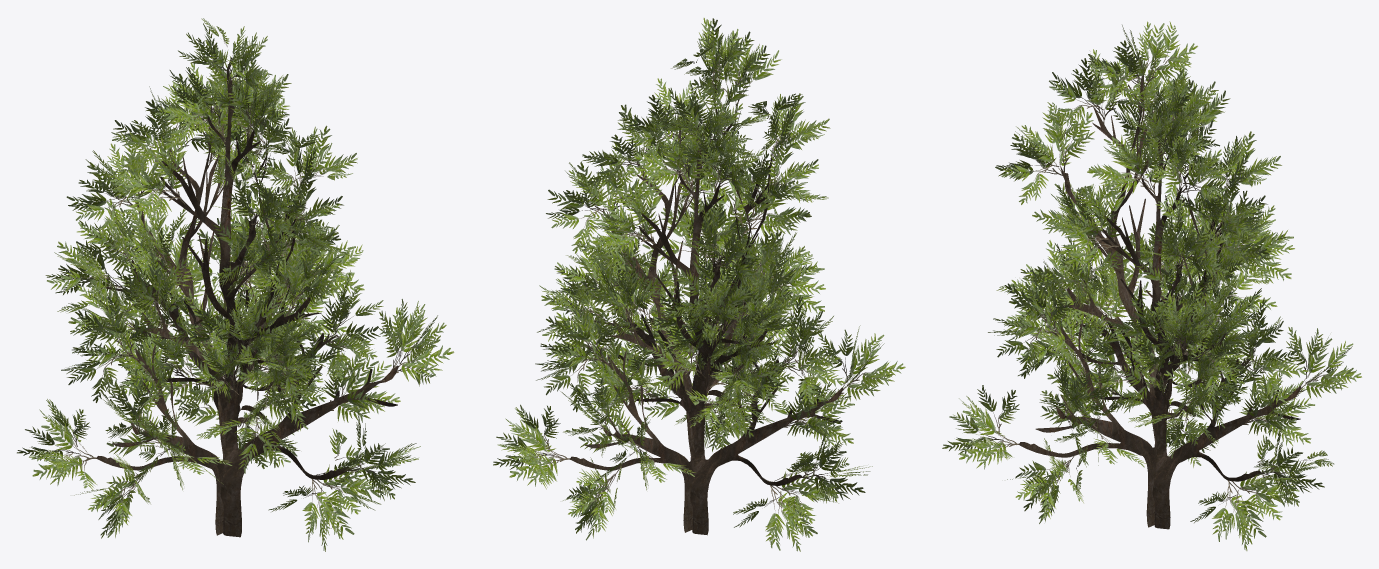
Rendered from tree_lod1.glb.
3 renders of one model, left to right at view 1: azimuth 30°, elevation 25°; view 2: azimuth 150°, elevation 25°; view 3: azimuth 270°, elevation 25°, orthographic. The views are drawn at different scales.
Visible parts, largest first — view 1: Object_5406.001, Object_5404.001; view 2: Object_5406.001, Object_5404.001; view 3: Object_5406.001, Object_5404.001.
Part boxes in pixels (x1,y1,x2,y2): Object_5406.001: (17,18,454,551); Object_5404.001: (96,57,398,537); Object_5406.001: (493,18,905,551); Object_5404.001: (569,57,843,535); Object_5406.001: (942,21,1361,550); Object_5404.001: (1018,58,1301,529).
Size of the model in its own units: 13.28 by 18.13 by 13.99.
Materials: 2 (2 with a texture image).
